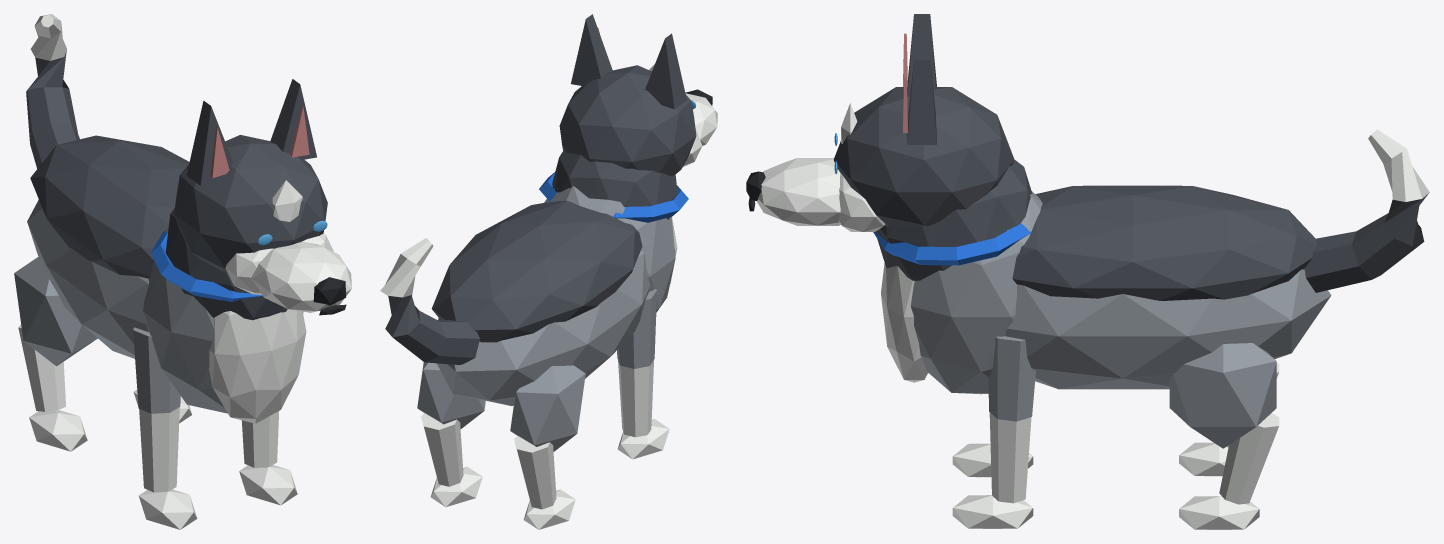
File: Mush_LowPoly_Husky.fbx
3 views of the same model, side by side, from view 1: azimuth 30°, elevation 25°; view 2: azimuth 150°, elevation 25°; view 3: azimuth 270°, elevation 25° (orthographic). The views are drawn at different scales.
Visible parts, largest first — view 1: Husky_Saddle, Husky_Head, Husky_ChestWhite, Husky_Torso, Husky_Chest, Husky_Tail, Husky_Rear_L_Thigh, Husky_Muzzle, Husky_Neck, Husky_Front_L_Lower, Husky_Front_L_Upper, Husky_Rear_L_Shin (+12 smaller); view 2: Husky_Saddle, Husky_Torso, Husky_Head, Husky_Tail, Husky_Rear_L_Thigh, Husky_Neck, Husky_Chest, Husky_Rear_R_Thigh, Husky_Front_L_Lower, Husky_Rear_R_Shin, Husky_Rear_L_Shin, Husky_Ear_L (+7 smaller); view 3: Husky_Saddle, Husky_Torso, Husky_Head, Husky_Chest, Husky_Rear_R_Thigh, Husky_Tail, Husky_Neck, Husky_Muzzle, Husky_ChestWhite, Husky_Front_R_Upper, Husky_Front_R_Lower, Husky_Rear_R_Shin (+8 smaller).
Boxes of the visible parts, x1=… form: Husky_Saddle: x1=30, y1=135, x2=189, y2=278; Husky_Head: x1=174, y1=135, x2=327, y2=271; Husky_ChestWhite: x1=209, y1=309, x2=306, y2=423; Husky_Torso: x1=27, y1=199, x2=148, y2=358; Husky_Chest: x1=143, y1=227, x2=303, y2=413; Husky_Tail: x1=26, y1=14, x2=79, y2=168; Husky_Rear_L_Thigh: x1=14, y1=256, x2=97, y2=366; Husky_Muzzle: x1=251, y1=242, x2=351, y2=312; Husky_Neck: x1=165, y1=208, x2=287, y2=320; Husky_Front_L_Lower: x1=139, y1=407, x2=179, y2=492; Husky_Front_L_Upper: x1=133, y1=327, x2=180, y2=413; Husky_Rear_L_Shin: x1=18, y1=324, x2=65, y2=411; Husky_Saddle: x1=431, y1=200, x2=642, y2=342; Husky_Torso: x1=437, y1=251, x2=650, y2=405; Husky_Head: x1=559, y1=65, x2=696, y2=175; Husky_Tail: x1=380, y1=238, x2=479, y2=364; Husky_Rear_L_Thigh: x1=510, y1=365, x2=585, y2=451; Husky_Neck: x1=552, y1=151, x2=677, y2=219; Husky_Chest: x1=544, y1=186, x2=675, y2=312; Husky_Rear_R_Thigh: x1=417, y1=362, x2=485, y2=428; Husky_Front_L_Lower: x1=618, y1=360, x2=653, y2=437; Husky_Rear_R_Shin: x1=421, y1=413, x2=463, y2=486; Husky_Rear_L_Shin: x1=514, y1=436, x2=556, y2=509; Husky_Ear_L: x1=645, y1=33, x2=686, y2=109; Husky_Saddle: x1=1012, y1=185, x2=1317, y2=300; Husky_Torso: x1=1005, y1=269, x2=1331, y2=389; Husky_Head: x1=833, y1=87, x2=1014, y2=227; Husky_Chest: x1=910, y1=191, x2=1042, y2=394; Husky_Rear_R_Thigh: x1=1169, y1=343, x2=1276, y2=448; Husky_Tail: x1=1304, y1=129, x2=1429, y2=292; Husky_Neck: x1=875, y1=160, x2=1032, y2=280; Husky_Muzzle: x1=756, y1=158, x2=840, y2=225; Husky_ChestWhite: x1=881, y1=263, x2=927, y2=382; Husky_Front_R_Upper: x1=988, y1=336, x2=1035, y2=421; Husky_Front_R_Lower: x1=989, y1=412, x2=1031, y2=503; Husky_Rear_R_Shin: x1=1219, y1=413, x2=1279, y2=504.
Bounding box in the file's own units: 105 × 261 × 347.
